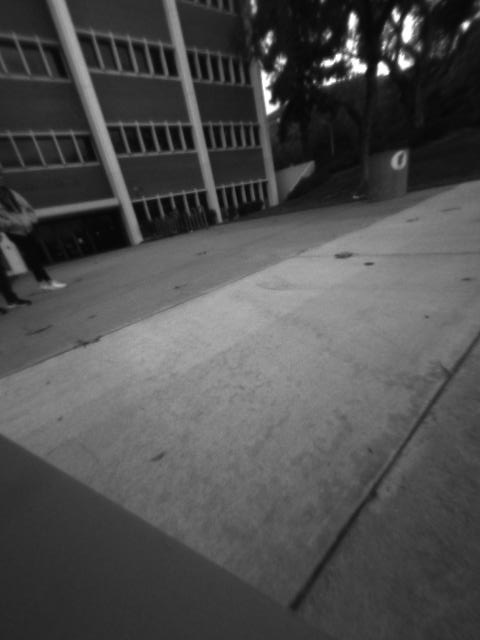trashcan: (362, 143, 413, 203)
